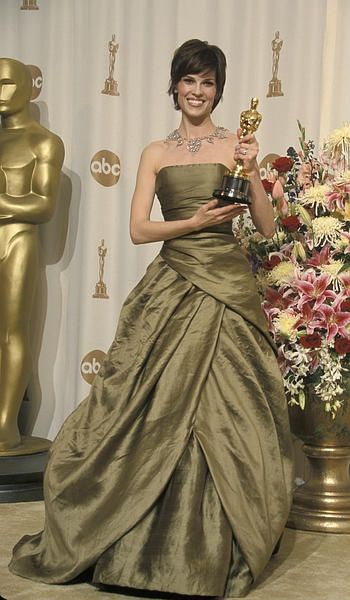hand: (235, 132, 256, 161)
